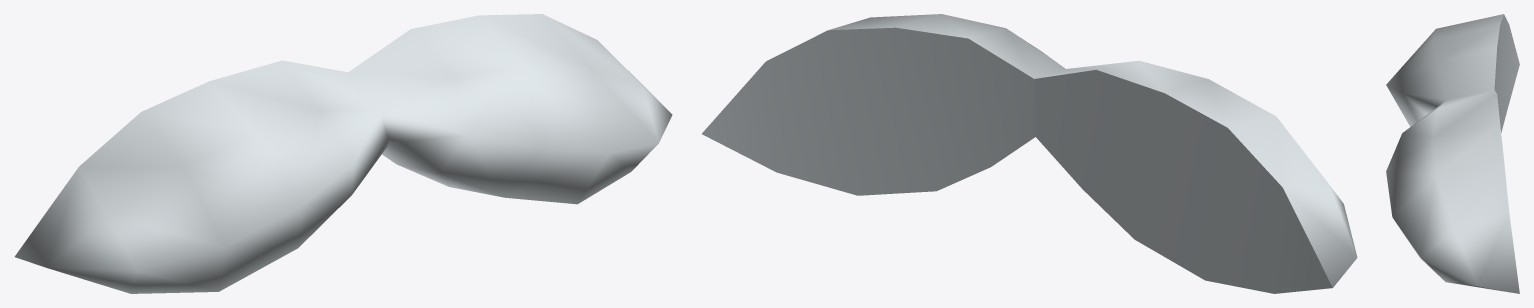
File: Mustache_3.fbx
The picture shows the model from 3 angles, left to right: view 1: azimuth 30°, elevation 25°; view 2: azimuth 150°, elevation 25°; view 3: azimuth 270°, elevation 25°; orthographic projection. The views are drawn at different scales.
Visible parts, largest first — view 1: Mustache_3; view 2: Mustache_3; view 3: Mustache_3.
Part boxes in pixels (x1,y1,x2,y2): Mustache_3: (14, 14, 672, 293); Mustache_3: (702, 14, 1357, 293); Mustache_3: (1386, 14, 1519, 293).
Bounding box in the file's own units: 20.94 × 5.81 × 5.16.
